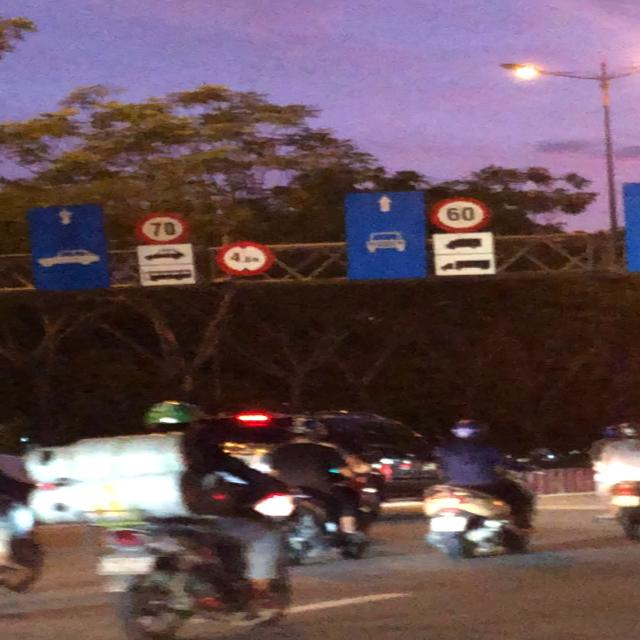Bien bao han che chieu cao: (210, 240, 276, 278)
Bien bao toc do toi da cho phep: (423, 196, 498, 235), (130, 211, 197, 249)
